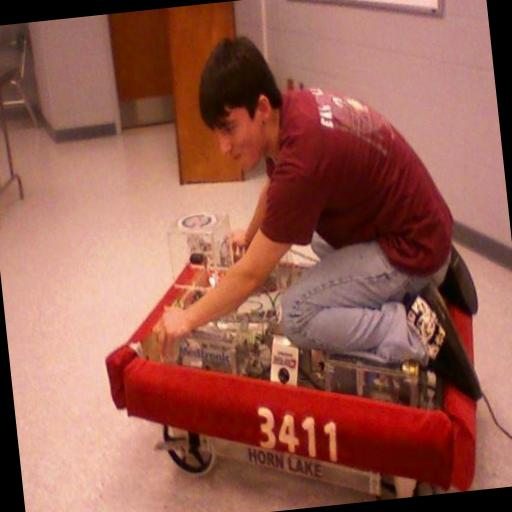robot: (82, 162, 489, 512)
